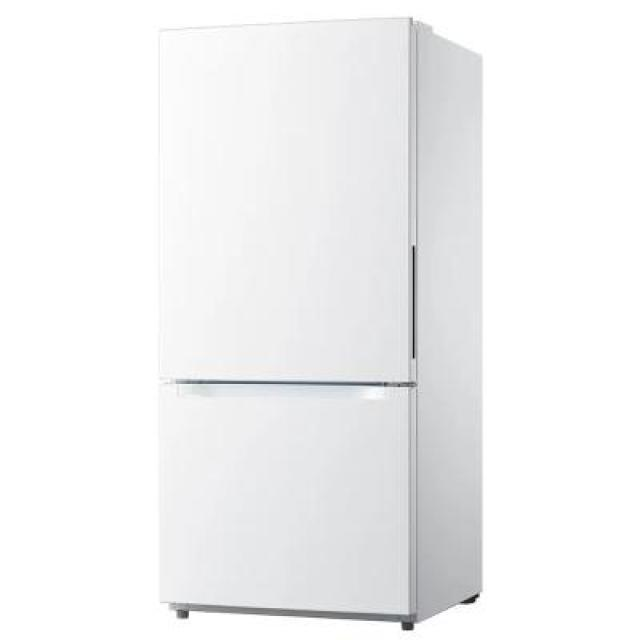refrigerator: (156, 14, 422, 620)
